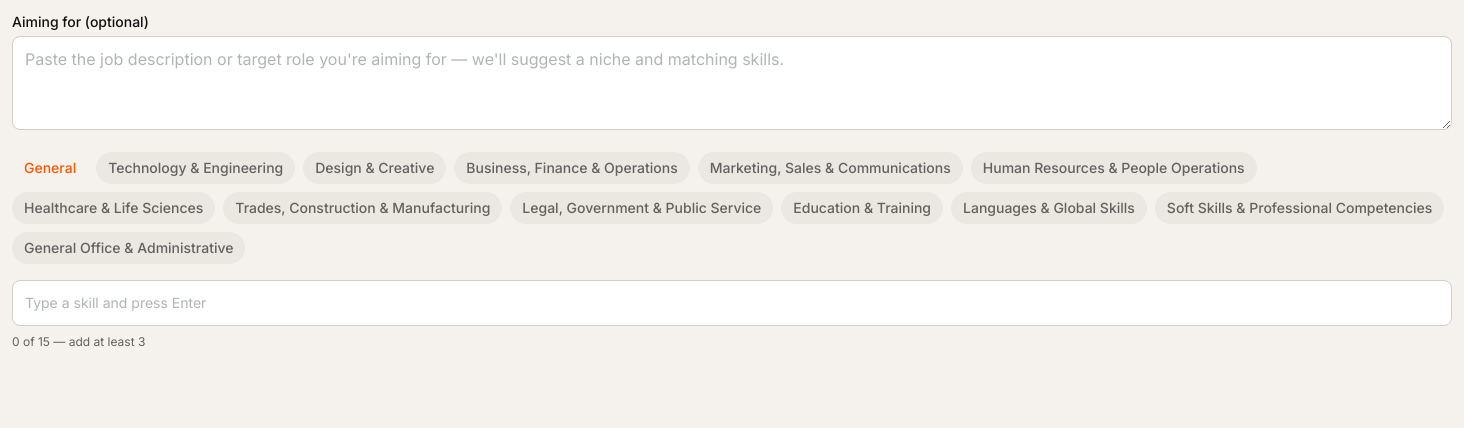
Test: SeekerSkillsStep › detects a niche from pasted text and suggests skills
Replace the text in the text box labelled "Aiming for (optional)" with "customer service representative using Zendesk and phone etiquette" at (732, 83), box [12,36,1452,130]
Wait 300 ms
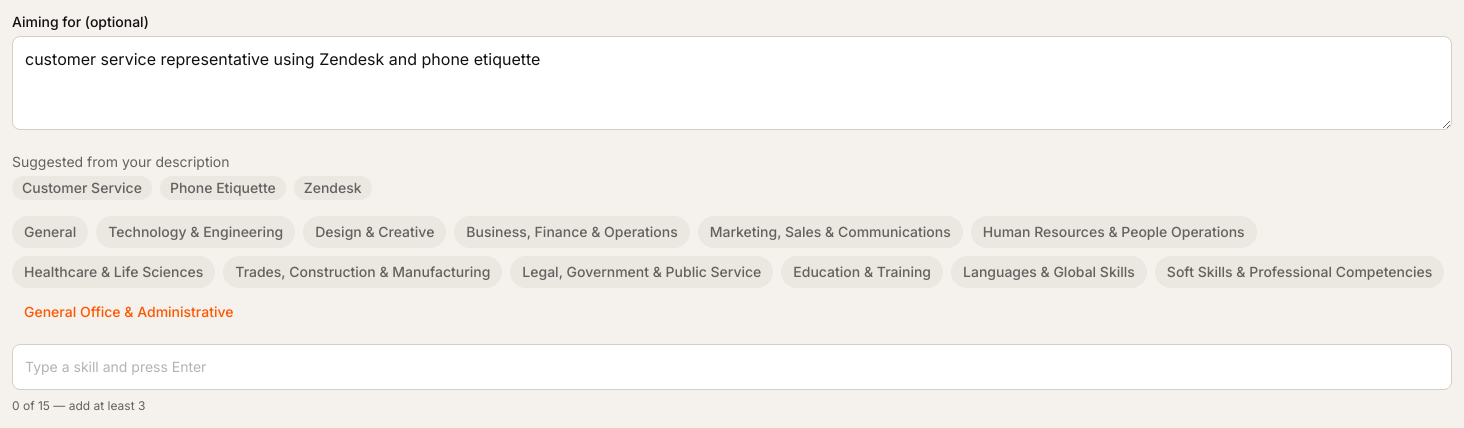
Now the text "Suggested from your description" is shown, box [12,153,230,170]
